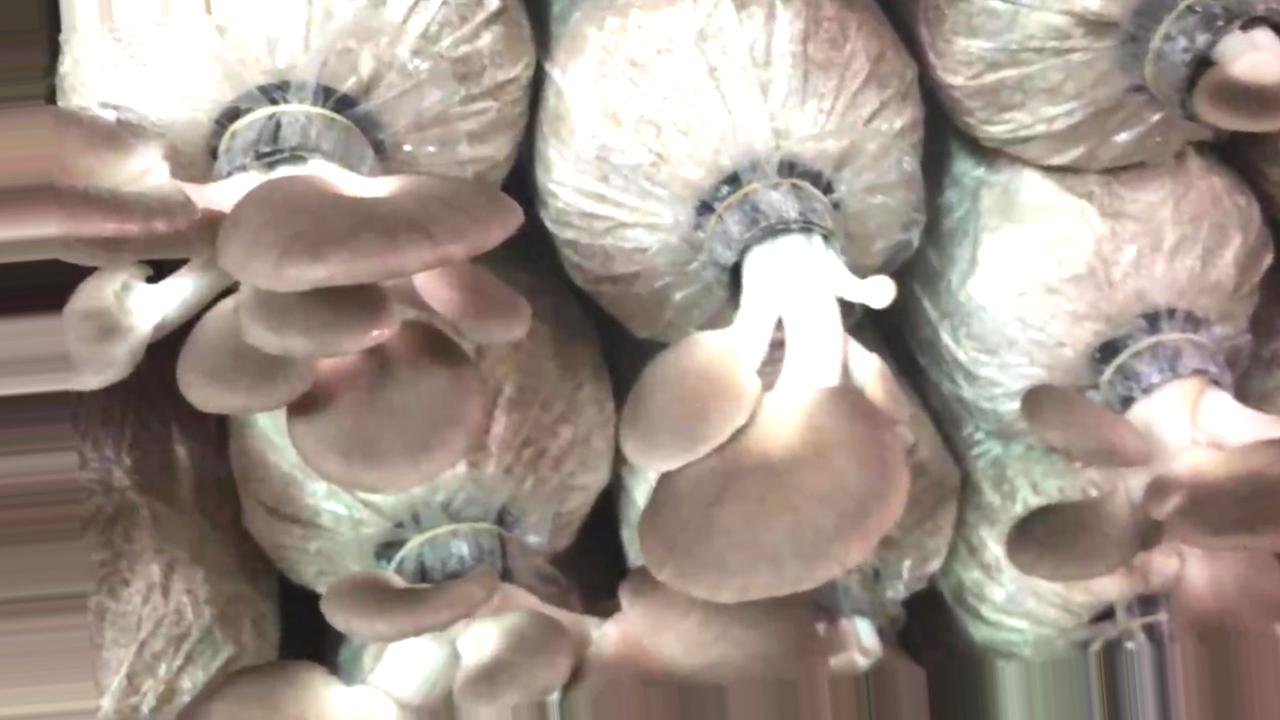nam: (1, 99, 532, 495), (181, 527, 927, 720), (621, 177, 920, 609), (1007, 335, 1280, 587), (1141, 2, 1280, 140)
